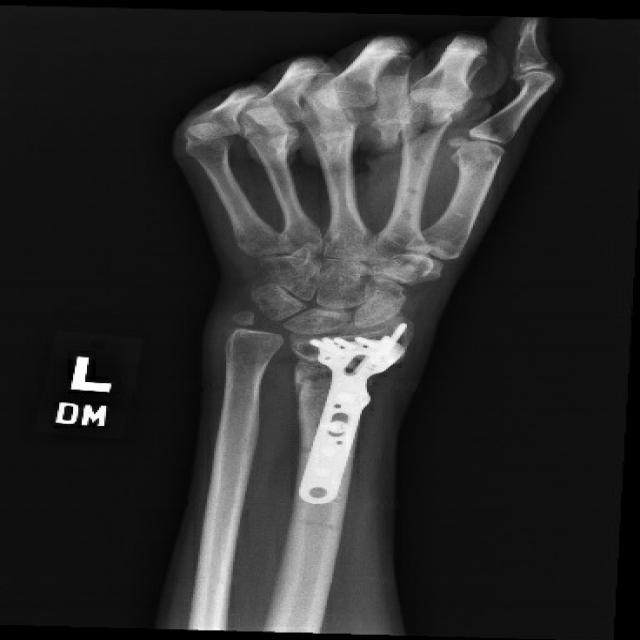x-ray: (301, 317, 414, 515)
